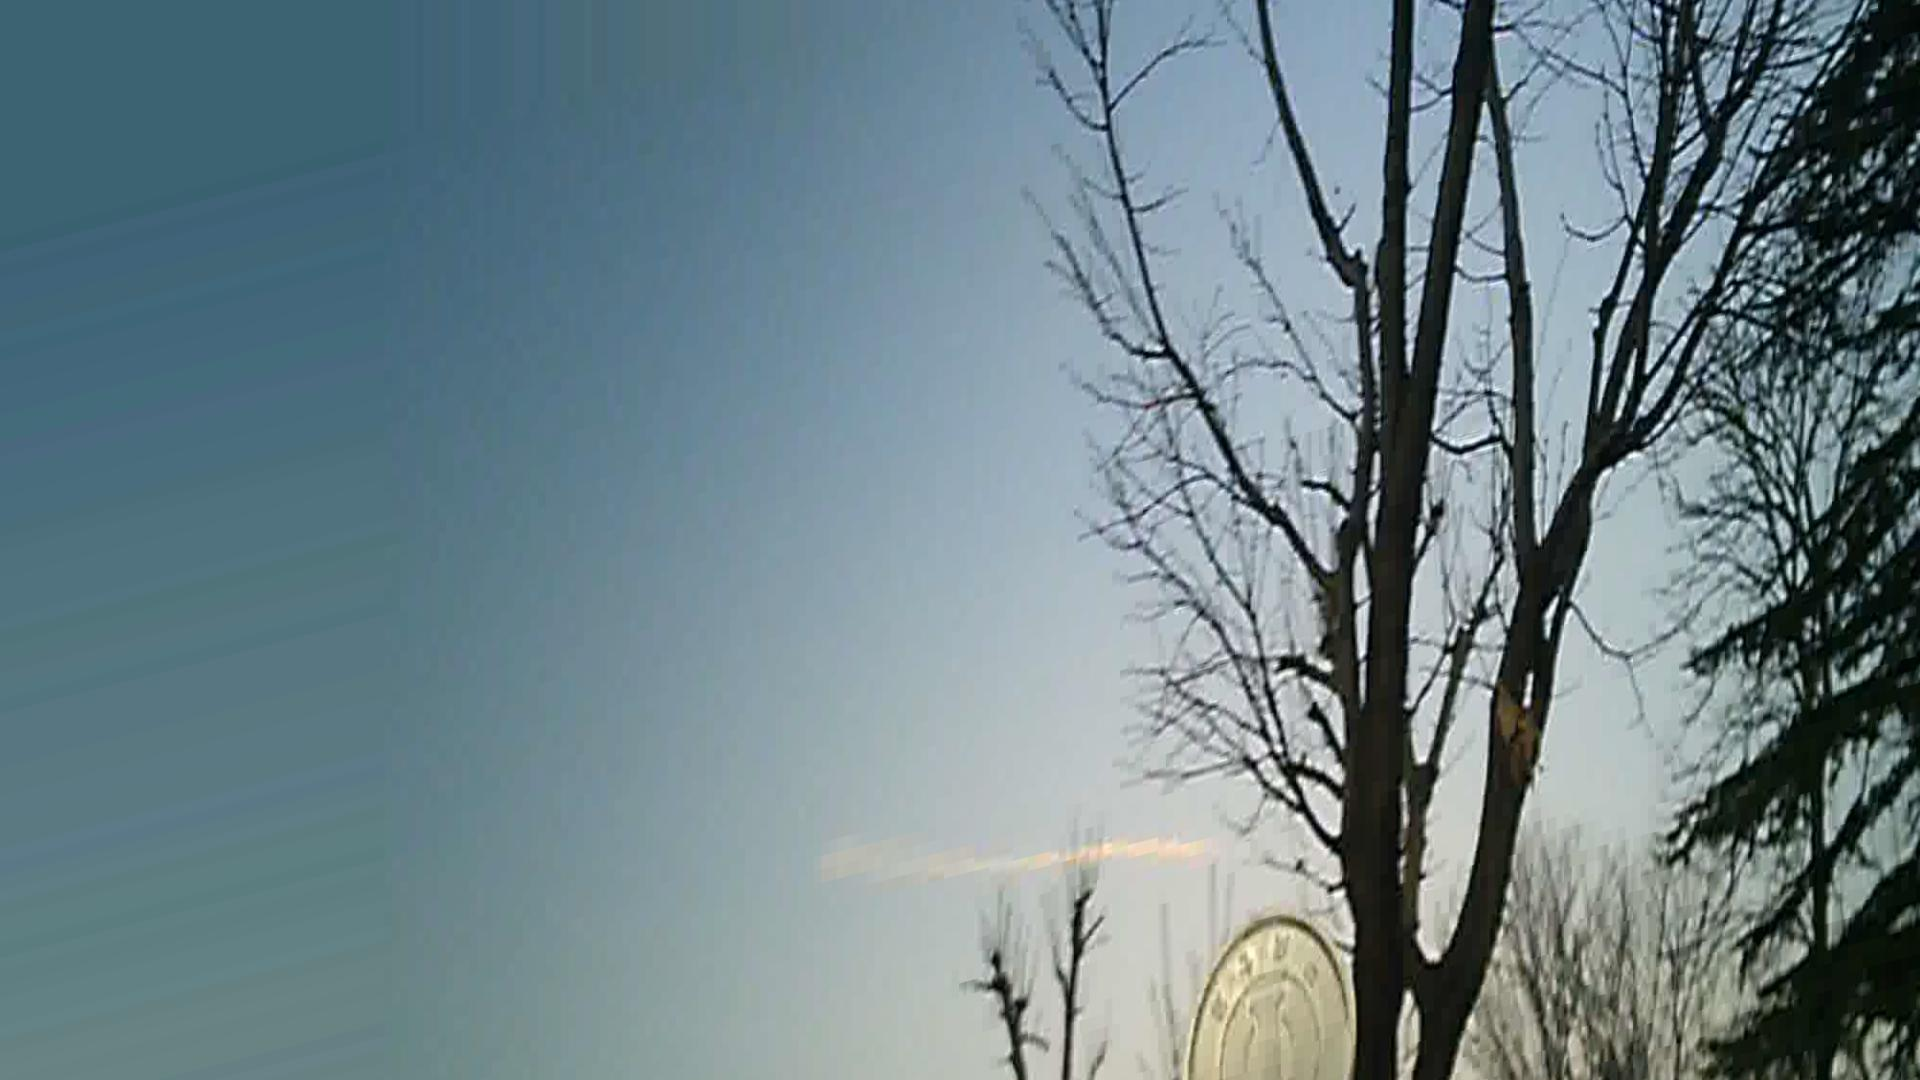1 Yen: (1164, 915, 1362, 1079)
